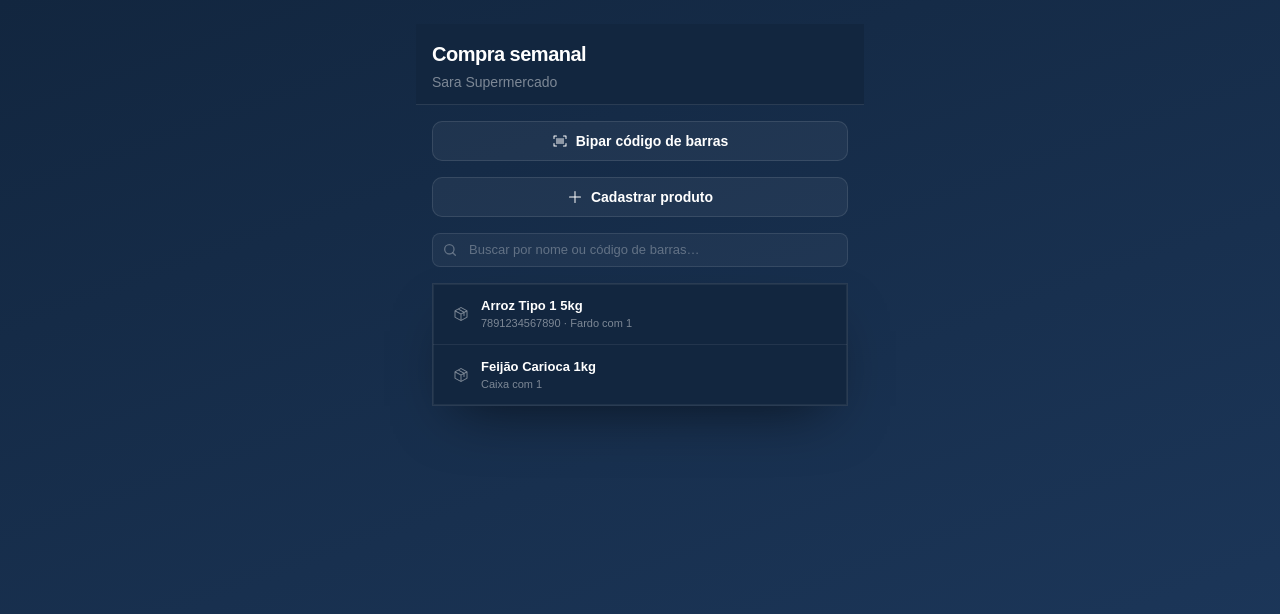
cadastrar sem bipar com nome vazio bloqueia e não cria
The width and height of the screenshot is (1280, 614).
Click the button "Cadastrar produto" at (640, 197), box [432,177,848,217]
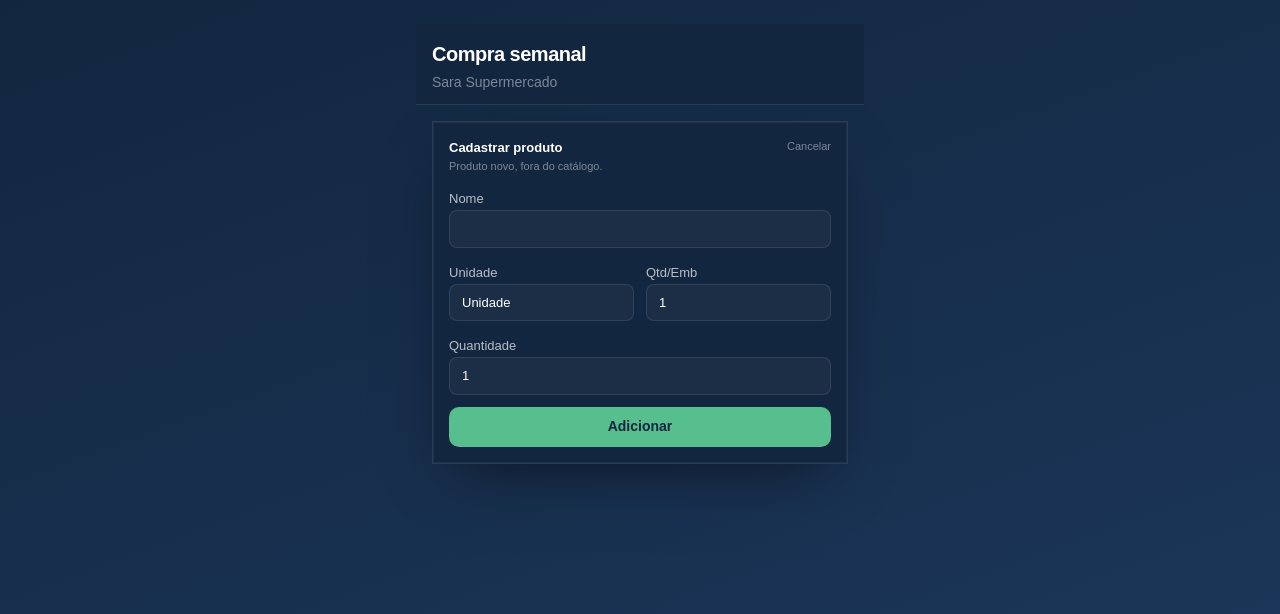
Click the button "Adicionar" at (640, 426), box [449,406,831,446]
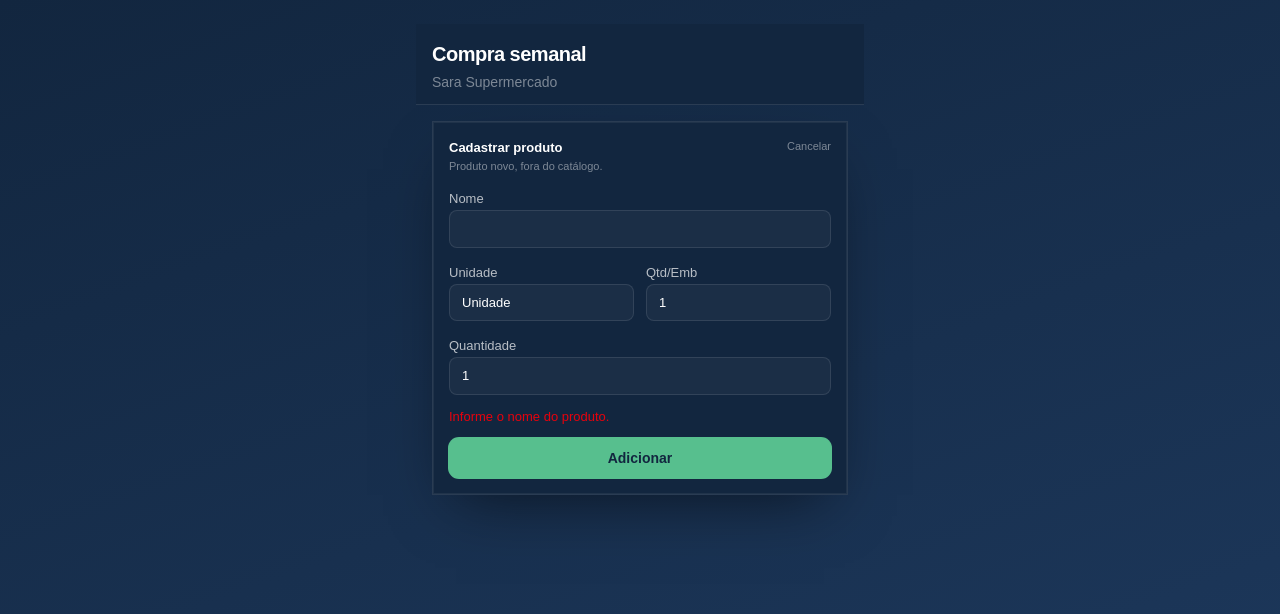
expect the message reads "Informe o nome do produto.": met, box [449,408,609,424]
